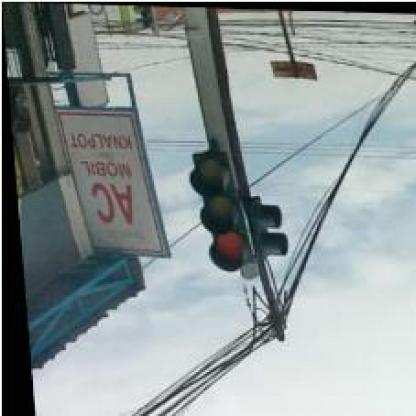red: (182, 144, 250, 274)
